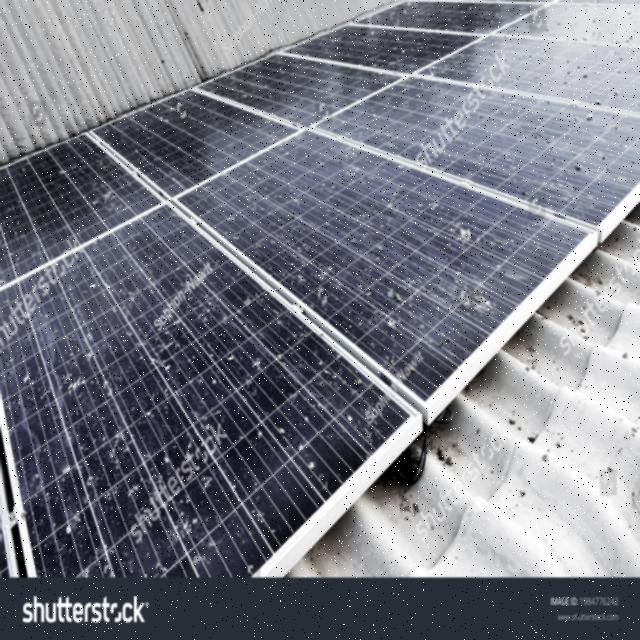bird drop: (16, 4, 632, 570)
